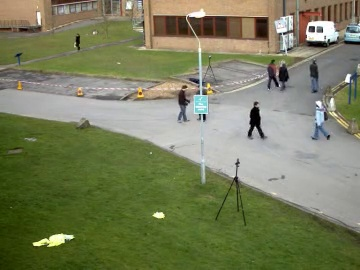person: (176, 85, 191, 122), (176, 84, 191, 121)
